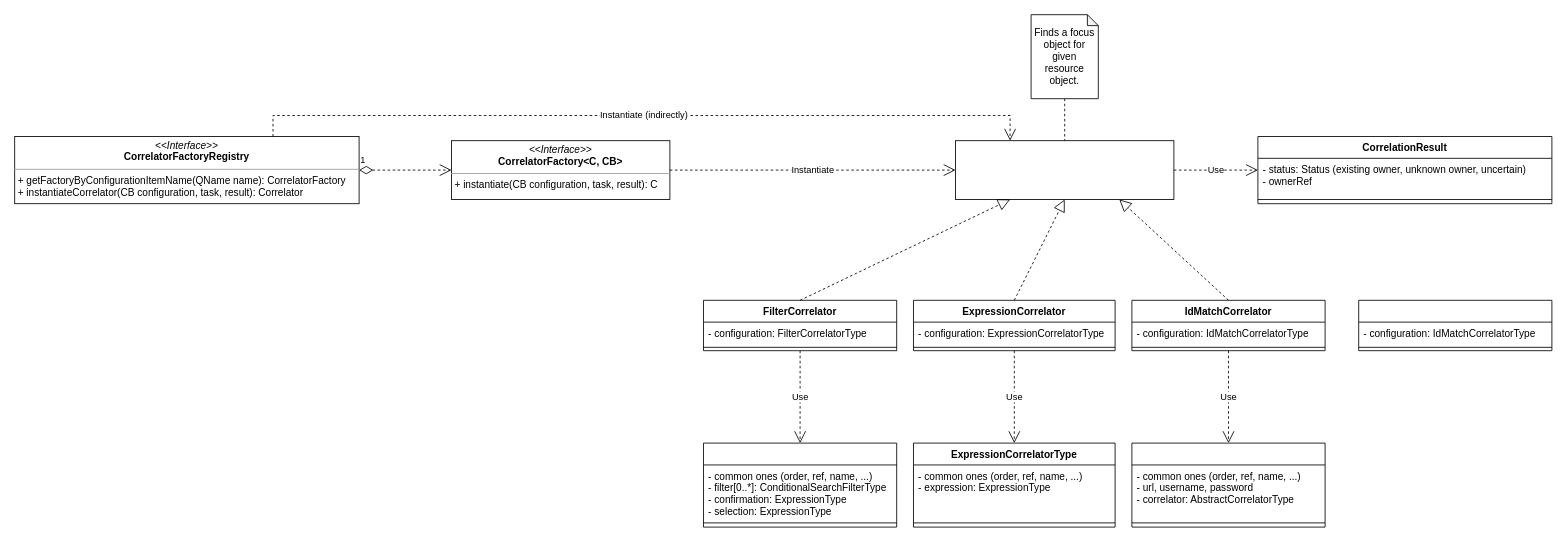
Some shapes in this 1567 by 542 pixel diagram are drawn without their labels. Here are the shapes that lost their labels. From the top down, the box of each, then its label:
(955, 140, 1174, 200): <<Interface>> Correlator + correlate(resourceObject): CorrelationResult
(1358, 299, 1552, 351): IdMatchService
(703, 442, 897, 527): FilterCorrelatorType
(1131, 442, 1325, 527): IdMatchCorrelatorType
